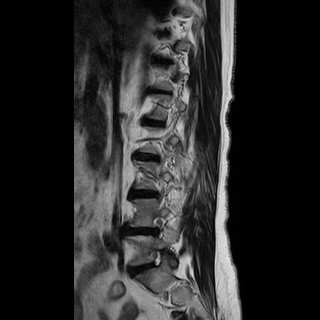RFS0: (143, 212, 170, 242), (143, 244, 169, 275)
